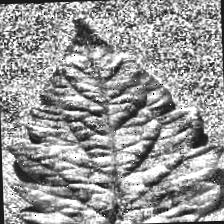leaf mold: (6, 13, 224, 224)
